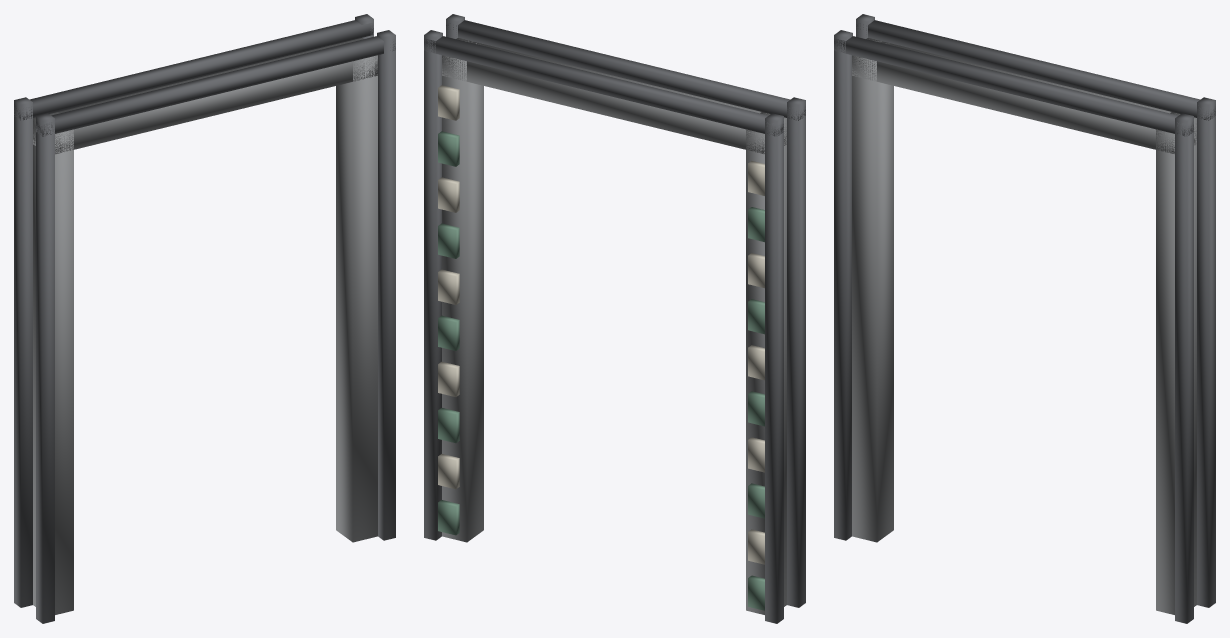
The model's file is doorway_tile_return_w152_h240_d16.glb.
3 renders of one model, left to right at view 1: azimuth 30°, elevation 25°; view 2: azimuth 150°, elevation 25°; view 3: azimuth 330°, elevation 25°, orthographic.
Parts seen in each view (by area): view 1: world; view 2: world; view 3: world.
Part boxes in pixels (x1,y1,x2,y2): world: [14, 14, 395, 623]; world: [424, 14, 805, 623]; world: [834, 14, 1215, 623].
Bounding box in the file's own units: 1.92 × 2.62 × 0.2716.
